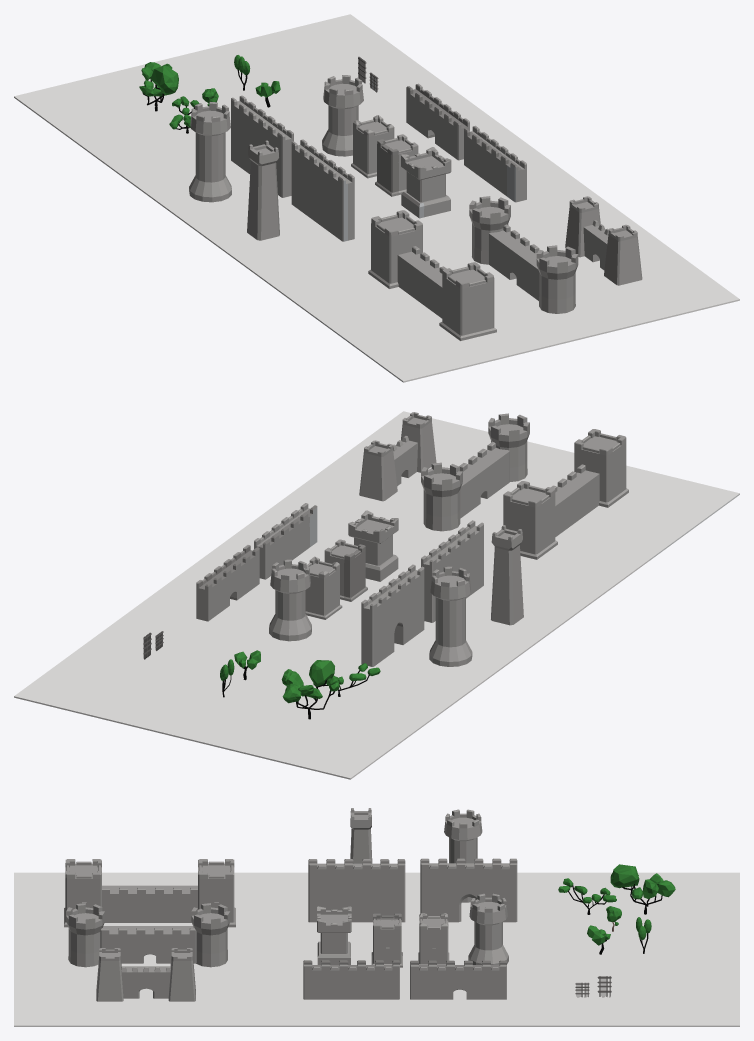
File: castle_lowpoly_modular.glb
The picture shows the model from 3 angles, top to bottom: view 1: azimuth 30°, elevation 25°; view 2: azimuth 150°, elevation 25°; view 3: azimuth 270°, elevation 25°; orthographic projection. The views are drawn at different scales.
Visible parts, largest first — view 1: Cube.063, Cube.067, Circle.010, Cube.060, Gate3.001, Circle.011, Cube.061, Cube.058, Cube.065, Cube.064, Cube.062, Circle.005 (+3 smaller); view 2: Cube.063, Cube.067, Circle.010, Cube.061, Gate3.001, Circle.011, Cube.060, Cube.062, Circle.005, Cube.065, Cube.058, Cube.064 (+3 smaller); view 3: Cube.063, Cube.067, Circle.010, Cube.060, Cube.061, Gate3.001, Cube.058, Cube.062, Circle.005, Cube.064, Circle.011, Cube.055 (+4 smaller).
Boxes of the visible parts, <box> form: Cube.063: <box>14,14,739,382</box>; Cube.067: <box>368,210,496,340</box>; Circle.010: <box>469,196,578,313</box>; Cube.060: <box>291,139,354,241</box>; Gate3.001: <box>565,196,642,285</box>; Circle.011: <box>189,102,231,202</box>; Cube.061: <box>231,95,293,197</box>; Cube.058: <box>464,125,526,202</box>; Cube.065: <box>247,140,279,240</box>; Cube.064: <box>401,147,451,218</box>; Cube.062: <box>406,83,469,160</box>; Circle.005: <box>322,75,363,156</box>; Cube.063: <box>14,411,739,779</box>; Cube.067: <box>503,429,628,559</box>; Circle.010: <box>421,413,529,531</box>; Cube.061: <box>361,564,424,666</box>; Gate3.001: <box>359,412,436,501</box>; Circle.011: <box>429,566,472,666</box>; Cube.060: <box>421,520,483,622</box>; Cube.062: <box>196,545,259,621</box>; Circle.005: <box>269,559,311,641</box>; Cube.065: <box>491,525,523,625</box>; Cube.058: <box>254,503,317,579</box>; Cube.064: <box>348,510,398,581</box>; Cube.063: <box>14,872,739,1026</box>; Cube.067: <box>64,859,235,927</box>; Circle.010: <box>66,903,230,967</box>; Cube.060: <box>308,859,405,922</box>; Cube.061: <box>420,858,517,922</box>; Gate3.001: <box>96,948,195,1001</box>; Cube.058: <box>303,960,399,999</box>; Cube.062: <box>410,960,506,999</box>; Circle.005: <box>468,893,508,964</box>; Cube.064: <box>317,906,351,964</box>; Circle.011: <box>444,809,482,902</box>; Cube.055: <box>418,913,449,964</box>.
Size of the model in its own units: 111 by 27.94 by 222.
Materials: 3 (3 with a texture image).
